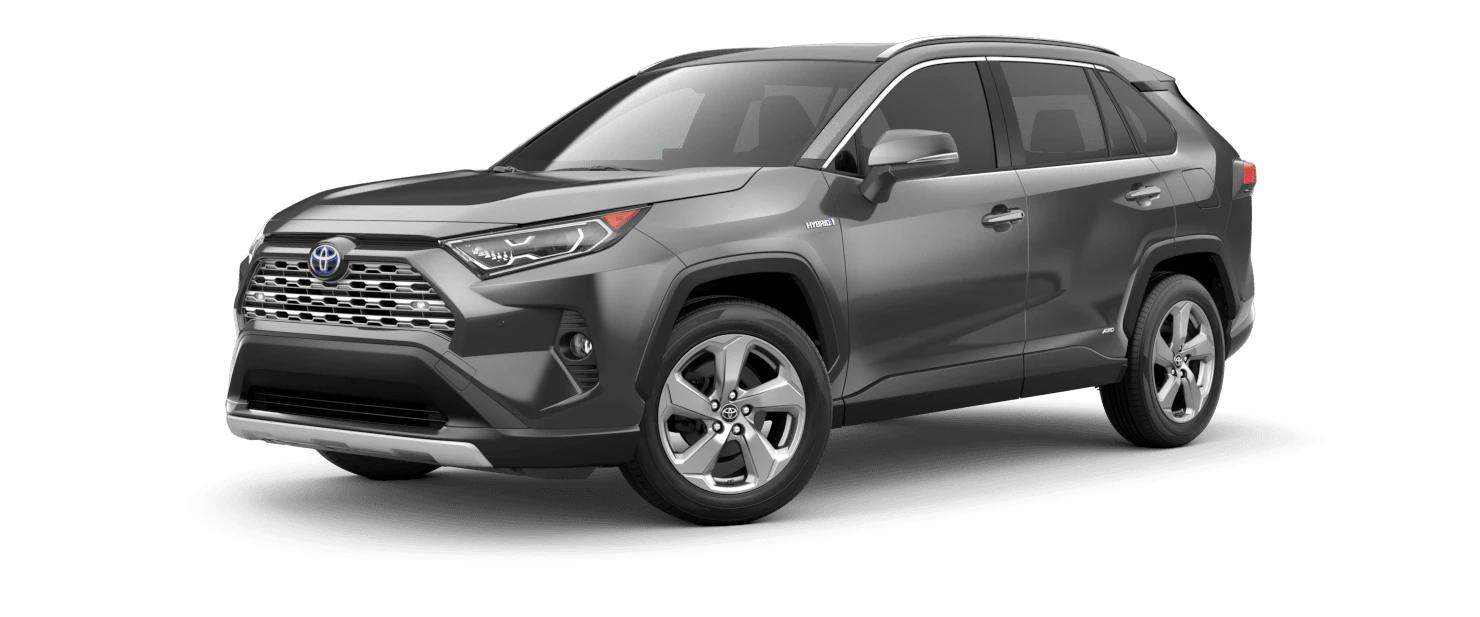Toyota RAV-4: (225, 35, 1255, 523)
